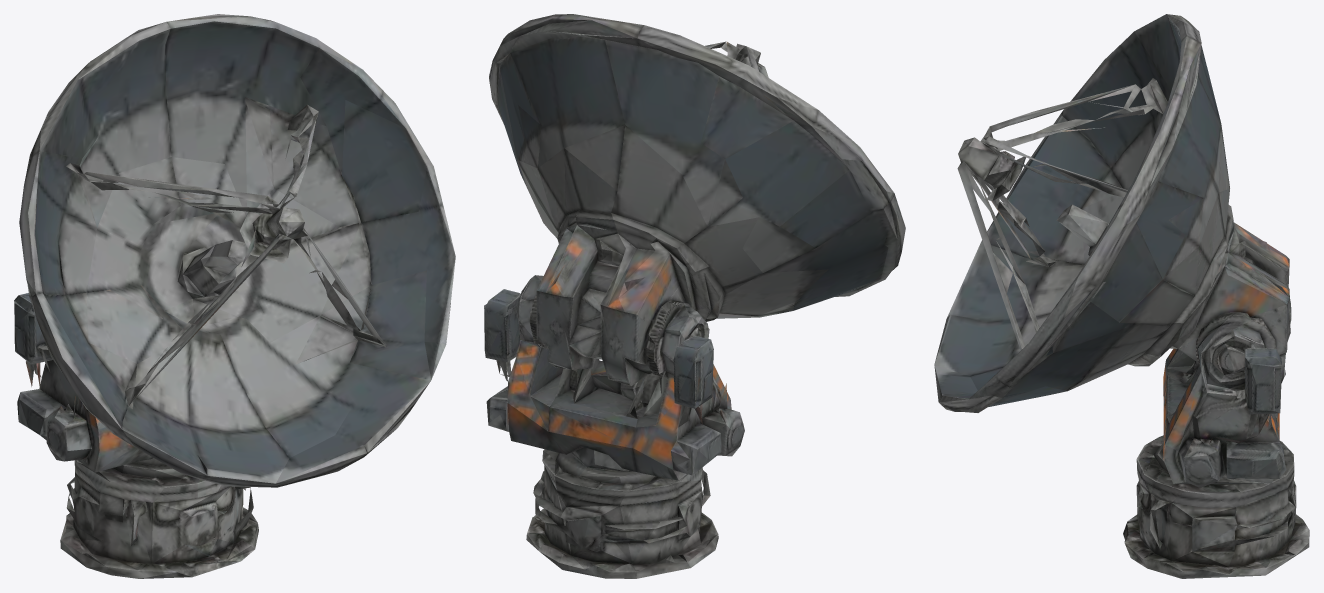
The model's file is dish.glb.
3 renders of one model, left to right at view 1: azimuth 30°, elevation 25°; view 2: azimuth 150°, elevation 25°; view 3: azimuth 270°, elevation 25°, orthographic. The views are drawn at different scales.
Visible parts, largest first — view 1: Mesh_0; view 2: Mesh_0; view 3: Mesh_0.
Part boxes in pixels (x1=…): Mesh_0: x1=14, y1=14, x2=455, y2=578; Mesh_0: x1=484, y1=14, x2=905, y2=578; Mesh_0: x1=934, y1=14, x2=1309, y2=578.
Bounding box in the file's own units: 2.43 × 3 × 2.03.
1 material, 1 textured.
